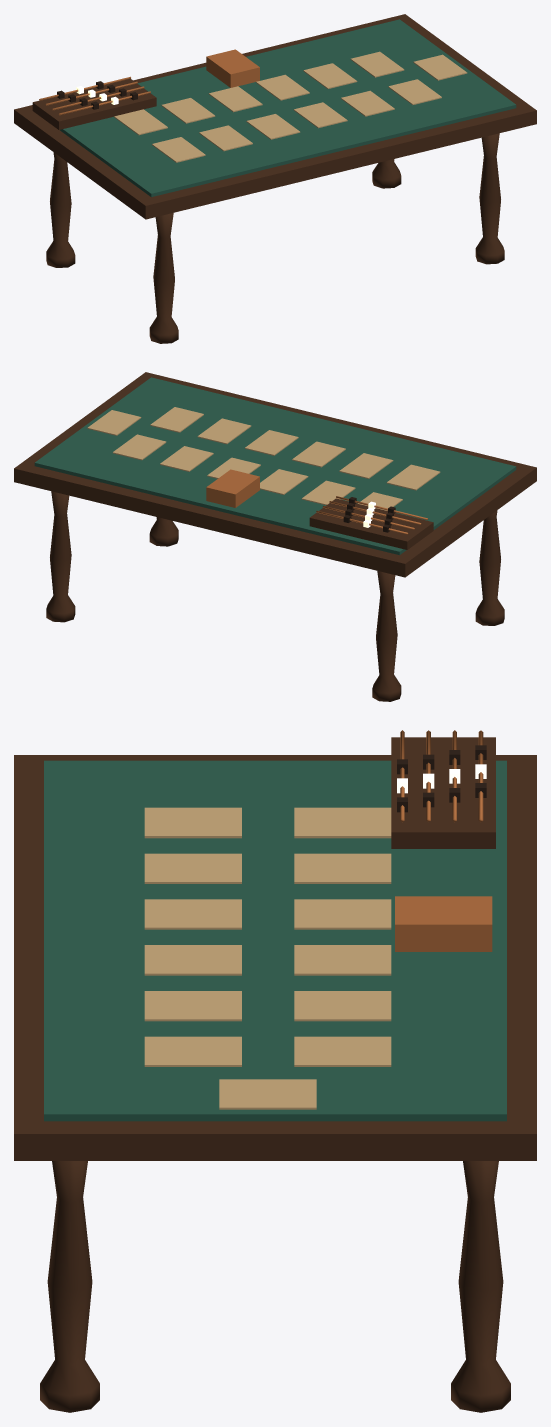
File: faro_table.glb
3 renders of one model, top to bottom at view 1: azimuth 30°, elevation 25°; view 2: azimuth 150°, elevation 25°; view 3: azimuth 270°, elevation 25°, orthographic. The views are drawn at different scales.
Visible parts, largest first — view 1: faro_table felt, faro_table wood, faro_table stone, faro_table metal, faro_table sign; view 2: faro_table felt, faro_table wood, faro_table stone, faro_table metal, faro_table sign; view 3: faro_table felt, faro_table wood, faro_table stone, faro_table metal, faro_table sign.
Boxes of the visible parts, left/top/right/bottom form: faro_table felt: left=60, top=19, right=516, bottom=197; faro_table wood: left=14, top=14, right=536, bottom=343; faro_table stone: left=114, top=51, right=467, bottom=162; faro_table metal: left=39, top=49, right=259, bottom=115; faro_table sign: left=57, top=81, right=137, bottom=109; faro_table felt: left=34, top=377, right=516, bottom=555; faro_table wood: left=14, top=372, right=536, bottom=701; faro_table stone: left=87, top=407, right=440, bottom=510; faro_table metal: left=206, top=469, right=427, bottom=534; faro_table sign: left=343, top=497, right=395, bottom=532; faro_table felt: left=44, top=760, right=506, bottom=1121; faro_table wood: left=14, top=737, right=536, bottom=1412; faro_table stone: left=144, top=807, right=391, bottom=1109; faro_table metal: left=395, top=730, right=492, bottom=951; faro_table sign: left=397, top=745, right=486, bottom=812.
Size of what is drawn, in the model's own units: 2.4 by 0.995 by 1.4.
